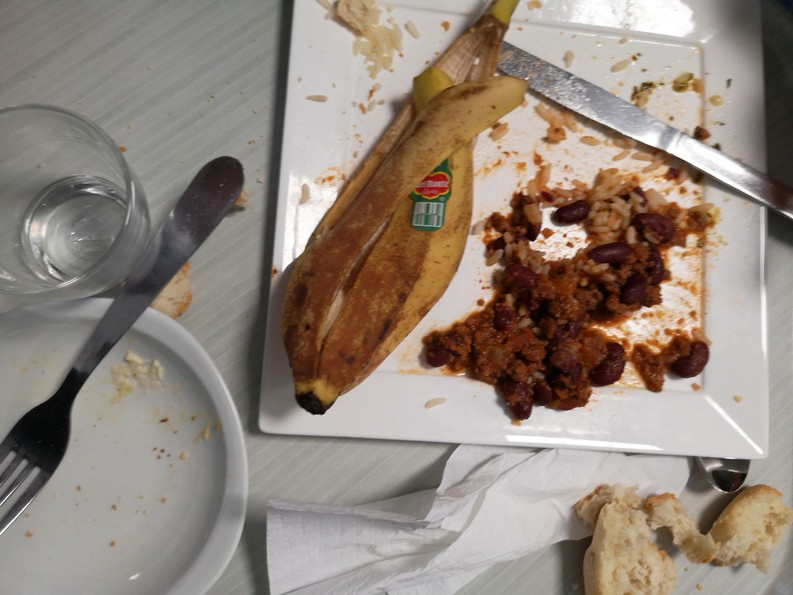cup: (1, 84, 152, 331)
cutlery: (1, 147, 248, 529), (497, 33, 793, 224), (691, 443, 761, 499)
orga: (298, 48, 495, 398), (458, 179, 698, 402), (588, 485, 775, 595)
trash: (265, 445, 588, 593)
